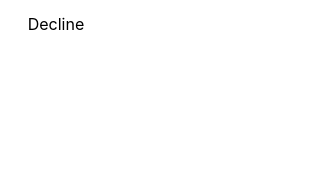
AnimatedText › restores the text when the pointer leaves
Hover over the text "Decline" at [56, 24], box [28,14,84,34]
Wait 140 ms
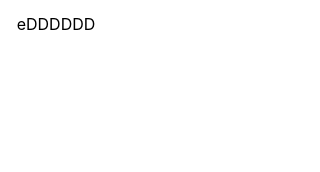
Move the pointer off the text "Decline", box [17,14,95,34]
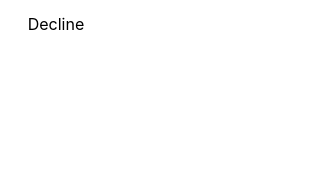
Result: the text "Decline" is shown at [28,14,84,34]
